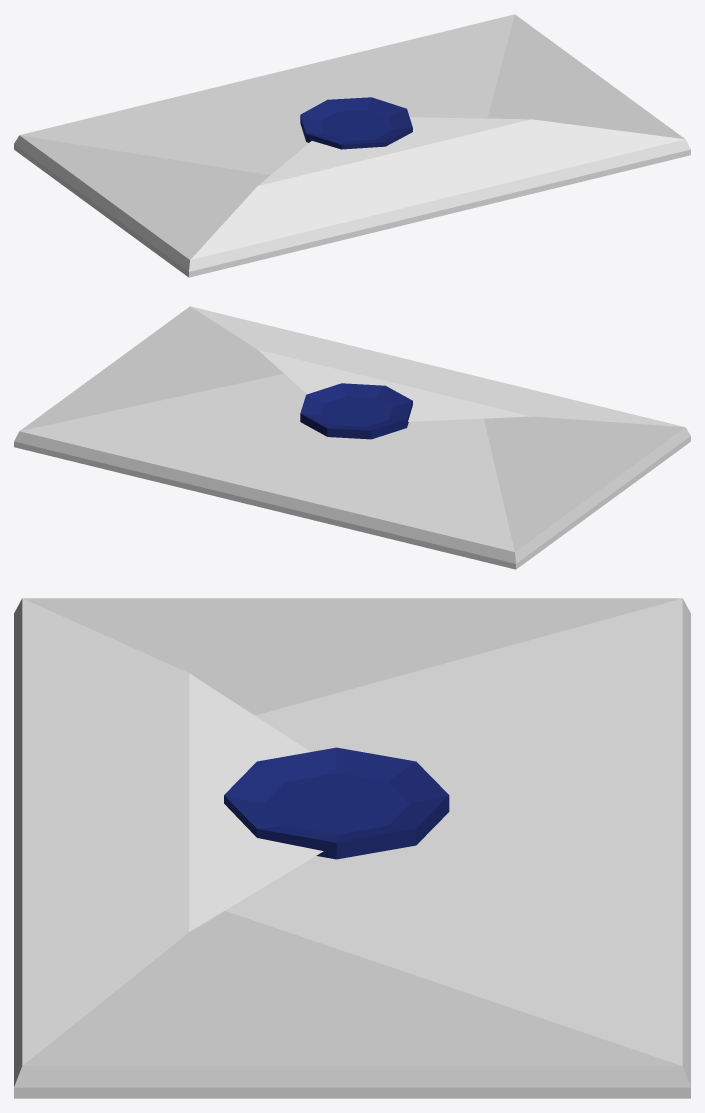
The model's file is letter04.gltf.
The picture shows the model from 3 angles, top to bottom: view 1: azimuth 30°, elevation 25°; view 2: azimuth 150°, elevation 25°; view 3: azimuth 270°, elevation 25°; orthographic projection. The views are drawn at different scales.
Visible parts, largest first — view 1: Cylinder; view 2: Cylinder; view 3: Cylinder.
Boxes of the visible parts, bbox=[...] form: Cylinder: bbox=[14, 14, 690, 277]; Cylinder: bbox=[14, 306, 690, 569]; Cylinder: bbox=[14, 598, 690, 1098].
Bounding box in the file's own units: 0.1264 × 0.00924 × 0.0763.
1 material, 1 textured.
